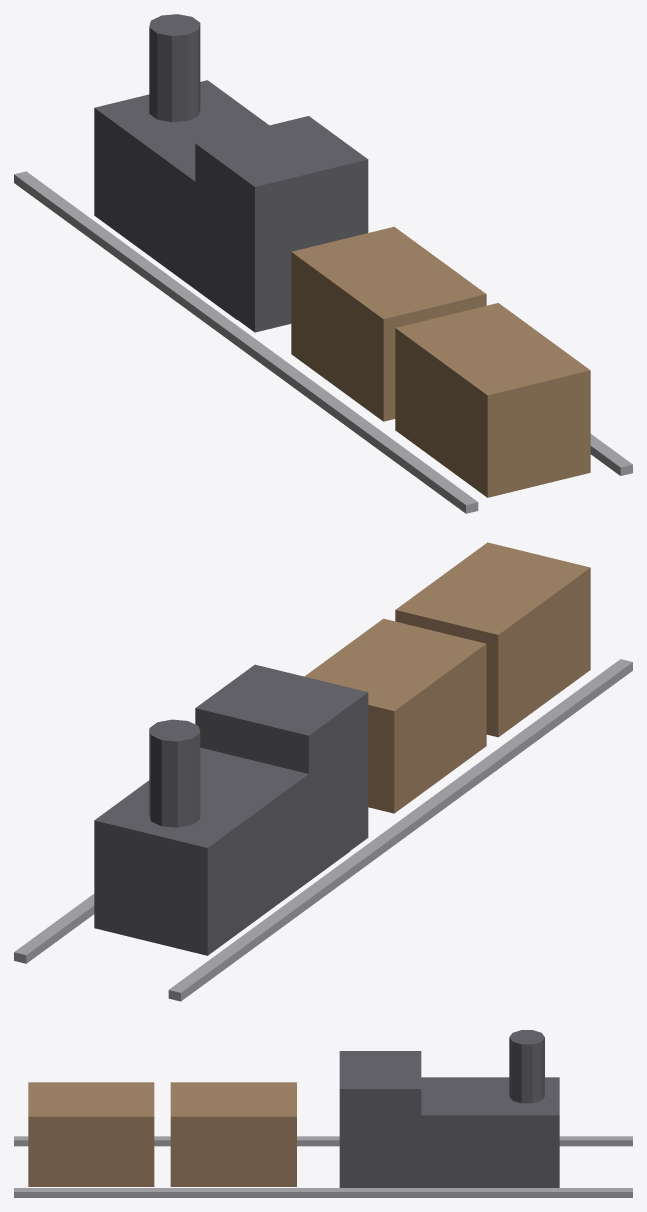
File: train.glb
3 views of the same model, one above another, from view 1: azimuth 30°, elevation 25°; view 2: azimuth 150°, elevation 25°; view 3: azimuth 270°, elevation 25° (orthographic). The views are drawn at different scales.
Visible parts, largest first — view 1: train; view 2: train; view 3: train.
Part boxes in pixels (bbox=[...]): train: bbox=[14, 14, 632, 513]; train: bbox=[14, 542, 632, 1001]; train: bbox=[14, 1030, 632, 1197].
Size of the model in its own units: 1.62 by 1.8 by 7.6.
